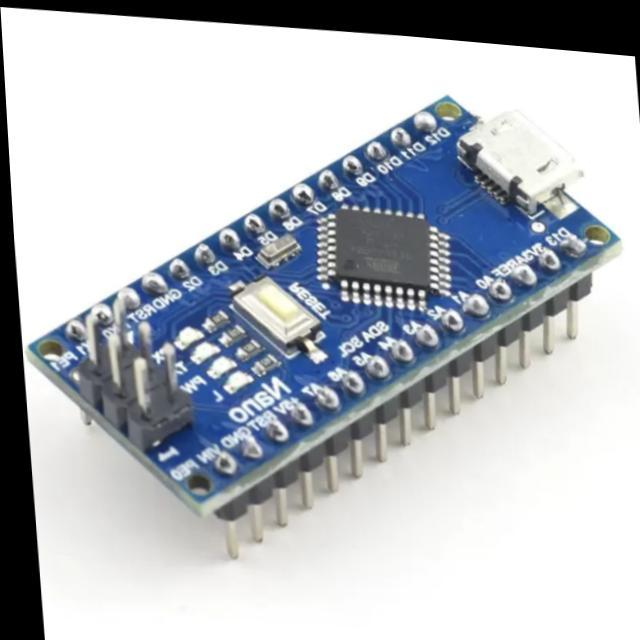Arduino-Nano: (29, 96, 620, 525)
